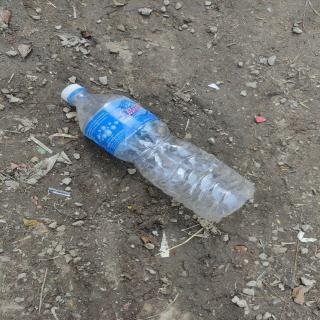Plastic-bottle: (60, 83, 260, 224)
